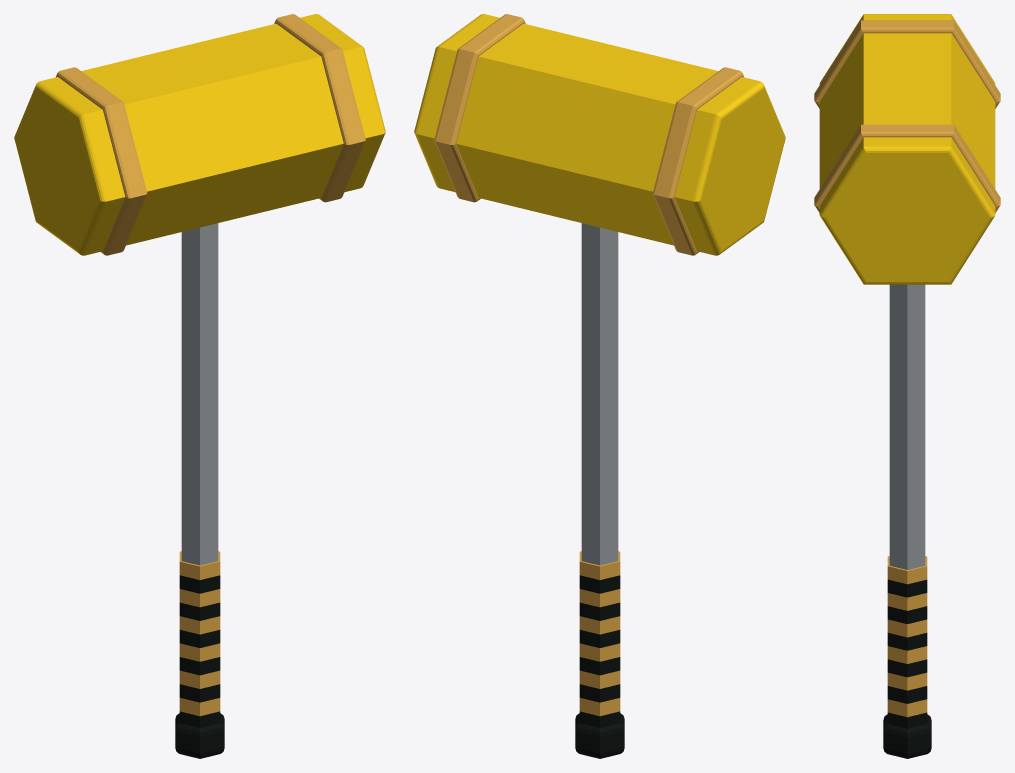
The model's file is hammer_midaru.fbx.
3 renders of one model, left to right at view 1: azimuth 30°, elevation 25°; view 2: azimuth 150°, elevation 25°; view 3: azimuth 270°, elevation 25°, orthographic. The views are drawn at different scales.
Visible parts, largest first — view 1: midaru_hammer; view 2: midaru_hammer; view 3: midaru_hammer.
Boxes of the visible parts, bbox=[...] form: midaru_hammer: bbox=[14, 14, 385, 758]; midaru_hammer: bbox=[414, 14, 785, 758]; midaru_hammer: bbox=[814, 14, 1000, 758].
Bounding box in the file's own units: 1.1 × 2.54 × 0.636.
